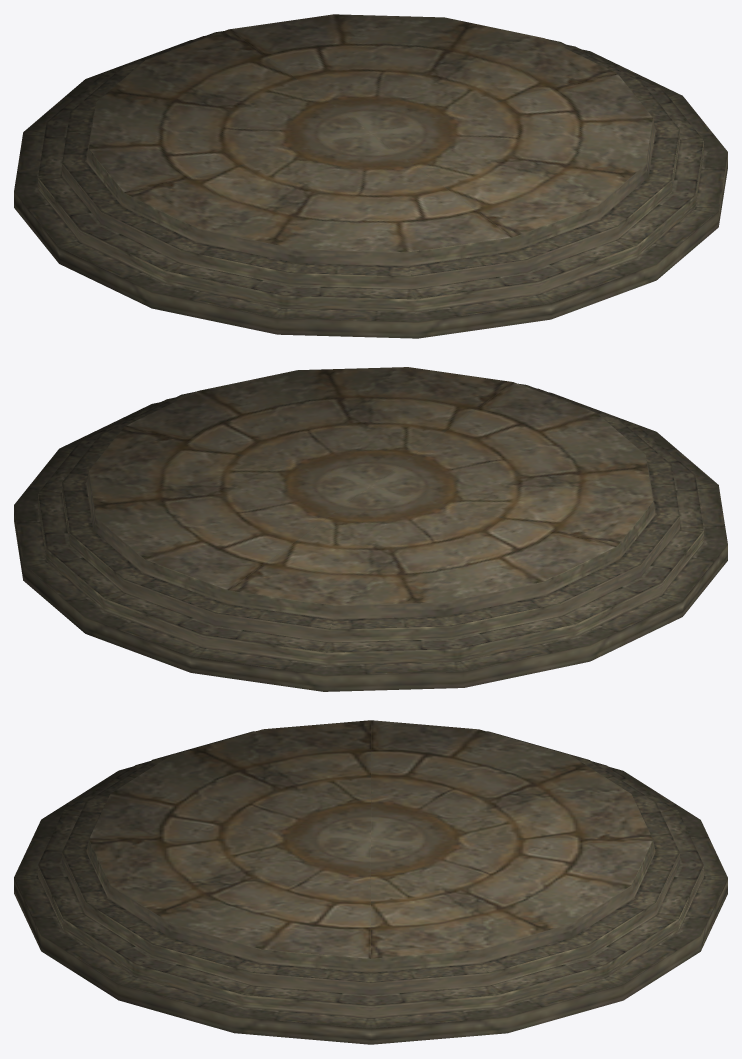
File: S_Build_Forest005.FBX
3 renders of one model, top to bottom at view 1: azimuth 30°, elevation 25°; view 2: azimuth 150°, elevation 25°; view 3: azimuth 270°, elevation 25°, orthographic.
Parts seen in each view (by area): view 1: S_Build_Forest005; view 2: S_Build_Forest005; view 3: S_Build_Forest005.
Part boxes in pixels (left/top/right/bottom): S_Build_Forest005: left=14, top=14, right=727, bottom=338; S_Build_Forest005: left=14, top=367, right=727, bottom=691; S_Build_Forest005: left=14, top=720, right=727, bottom=1044.
Bounding box in the file's own units: 654 × 654 × 55.21.
